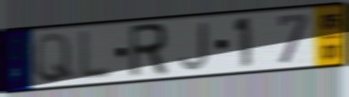1: (232, 15, 254, 70)
7: (275, 11, 311, 67)
J: (178, 20, 210, 73)
L: (77, 28, 114, 83)
Q: (32, 31, 77, 85)
R: (127, 21, 170, 81)
